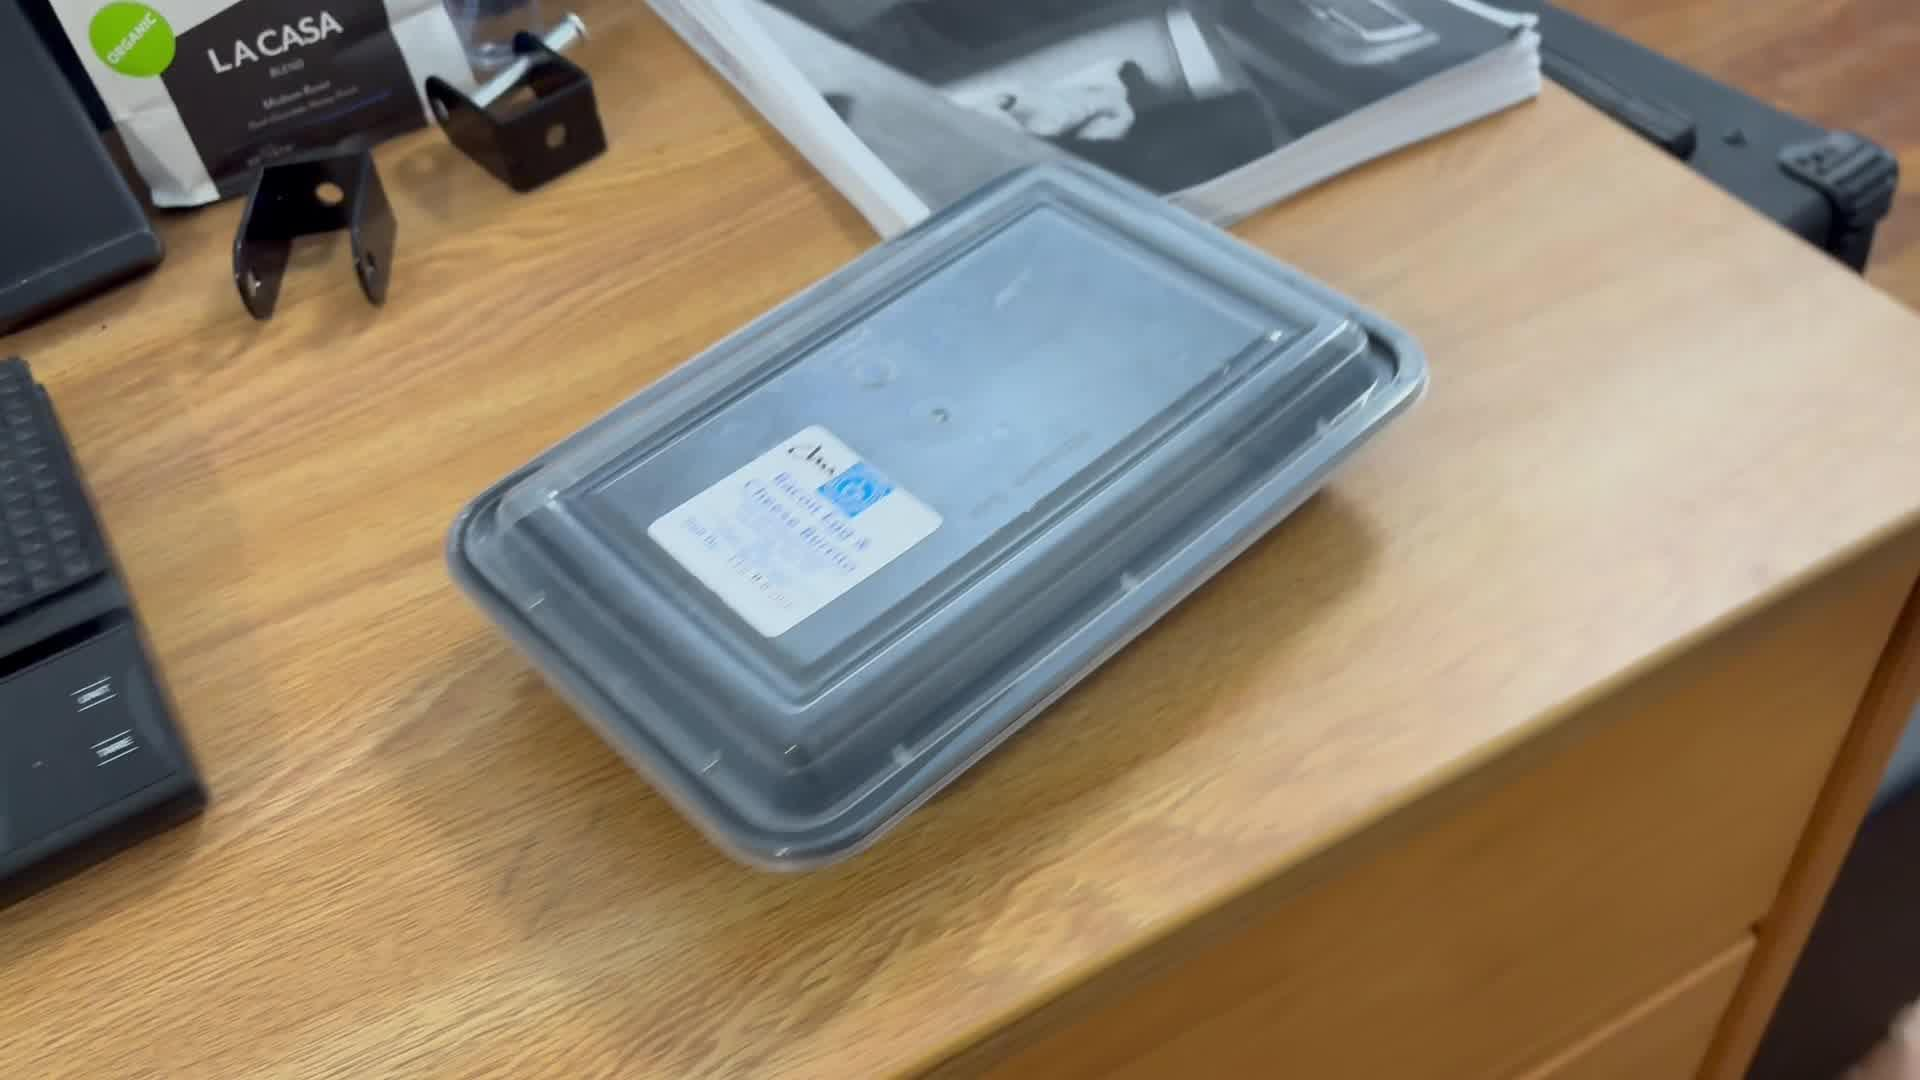lp_cup_lids: (434, 148, 1435, 877)
